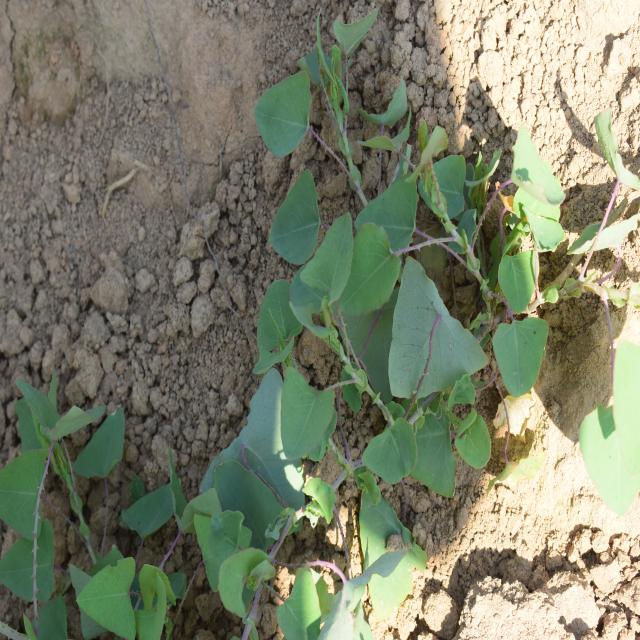Asiatic_Smartweed: (270, 29, 459, 293), (237, 188, 399, 464), (464, 115, 567, 385), (181, 470, 333, 630), (347, 367, 509, 499)
